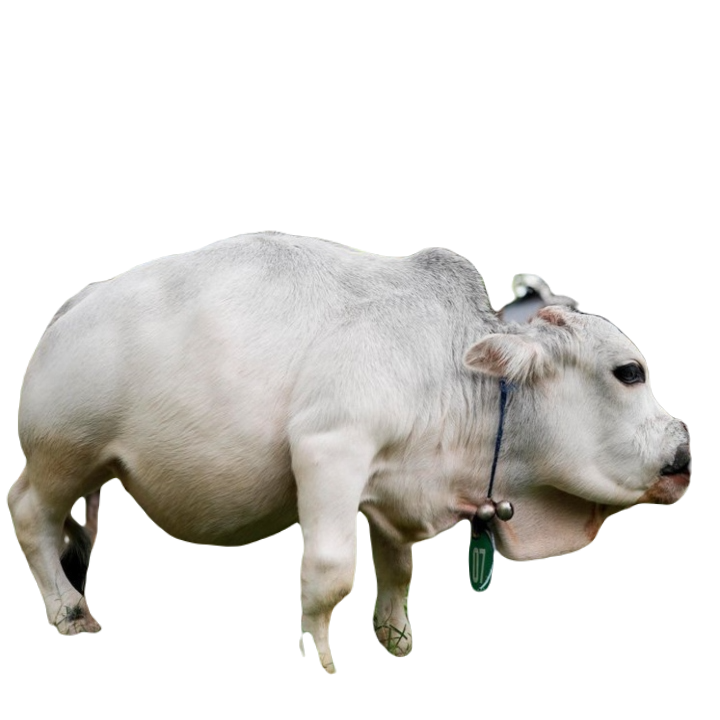Cow: (5, 226, 693, 674)
